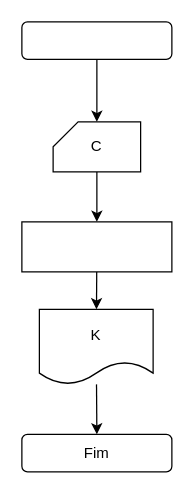
Some shapes in this 194 by 494 pixel diagram are drawn without their labels. Here are the shapes that lost their labels. From the top down, the centre of each, then its label:
At [96,40]: "Inicio".
At [96,246]: "k <- C+ 273".
